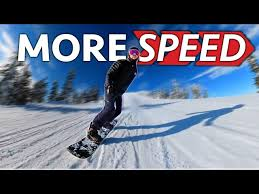snowboard: (67, 117, 116, 160)
